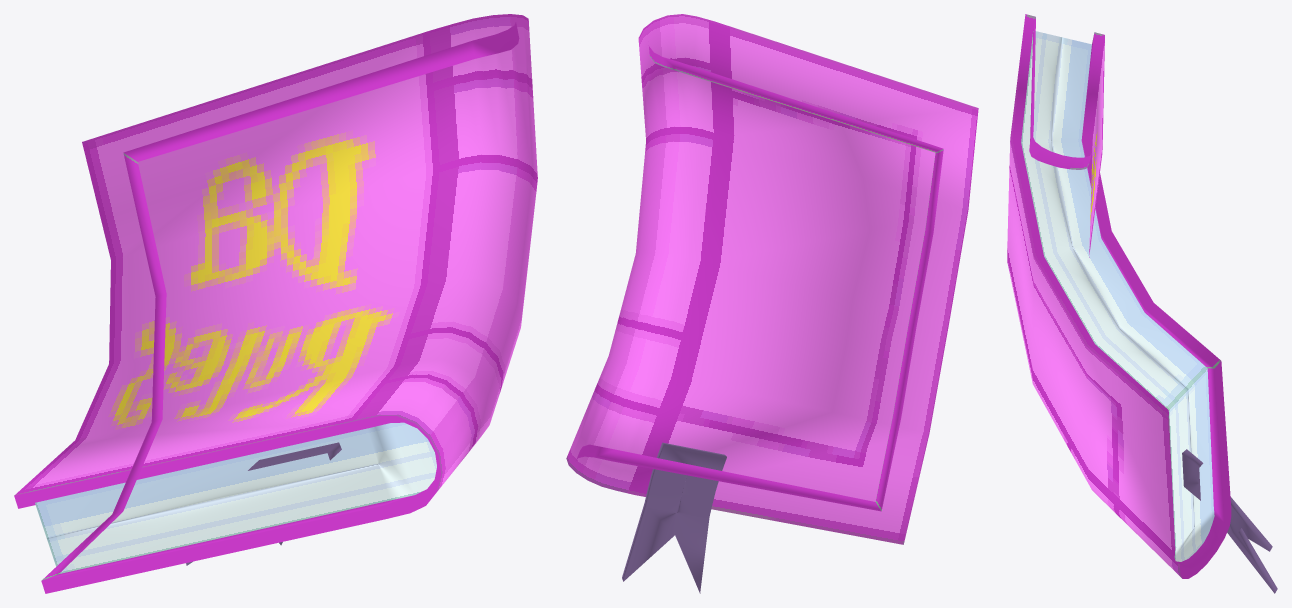
File: ps2_save-icons_fairlyoddparentsbreakindarules.glb
3 views of the same model, side by side, from view 1: azimuth 30°, elevation 25°; view 2: azimuth 150°, elevation 25°; view 3: azimuth 270°, elevation 25° (orthographic). The views are drawn at different scales.
Parts seen in each view (by area): view 1: icon.icn; view 2: icon.icn; view 3: icon.icn.
Boxes of the visible parts, <box> form: icon.icn: <box>14,14,537,593</box>; icon.icn: <box>566,14,978,593</box>; icon.icn: <box>1007,14,1277,593</box>.
Size of the model in its own units: 2.74 by 3.78 by 1.92.
Materials: 1 (1 with a texture image).
